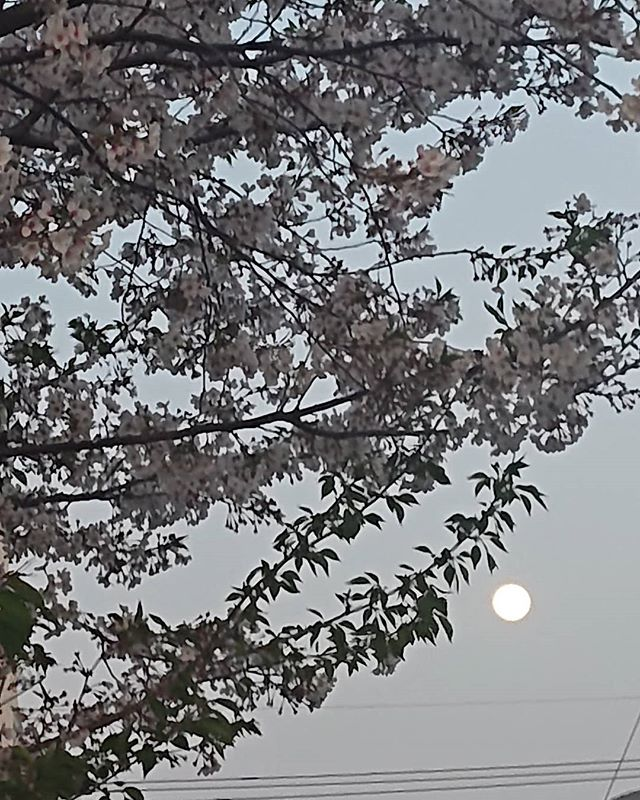sun: (481, 570, 537, 628)
tree: (1, 1, 628, 794)
